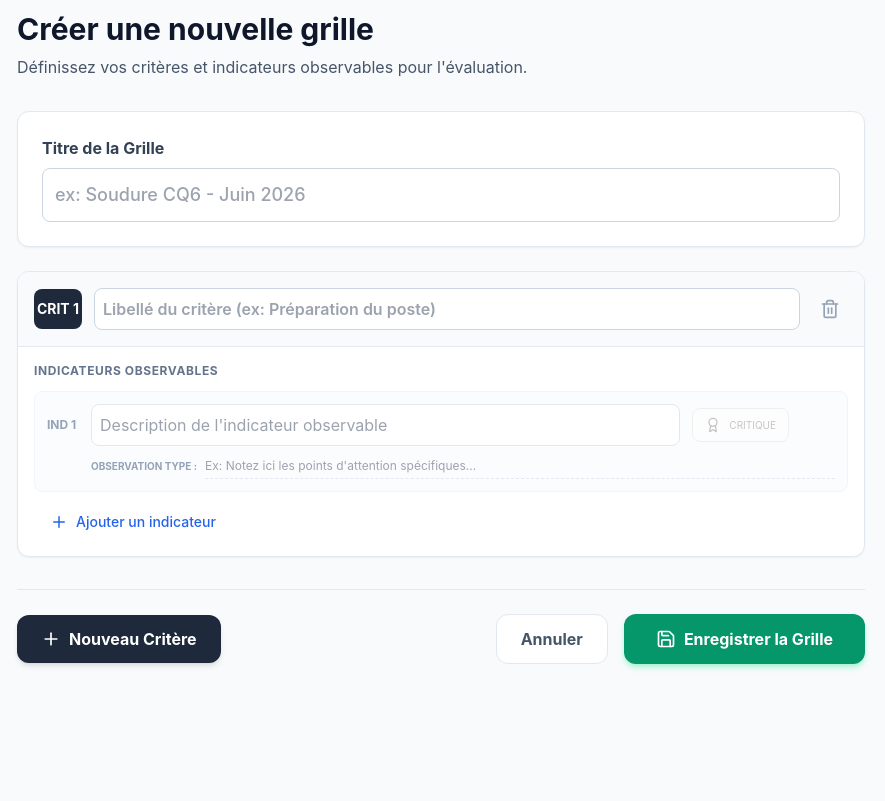
Test: GridEditor › should add an indicator to a competency
Click the button "Ajouter un indicateur". click: (133, 522)
box: [34,504,232,540]
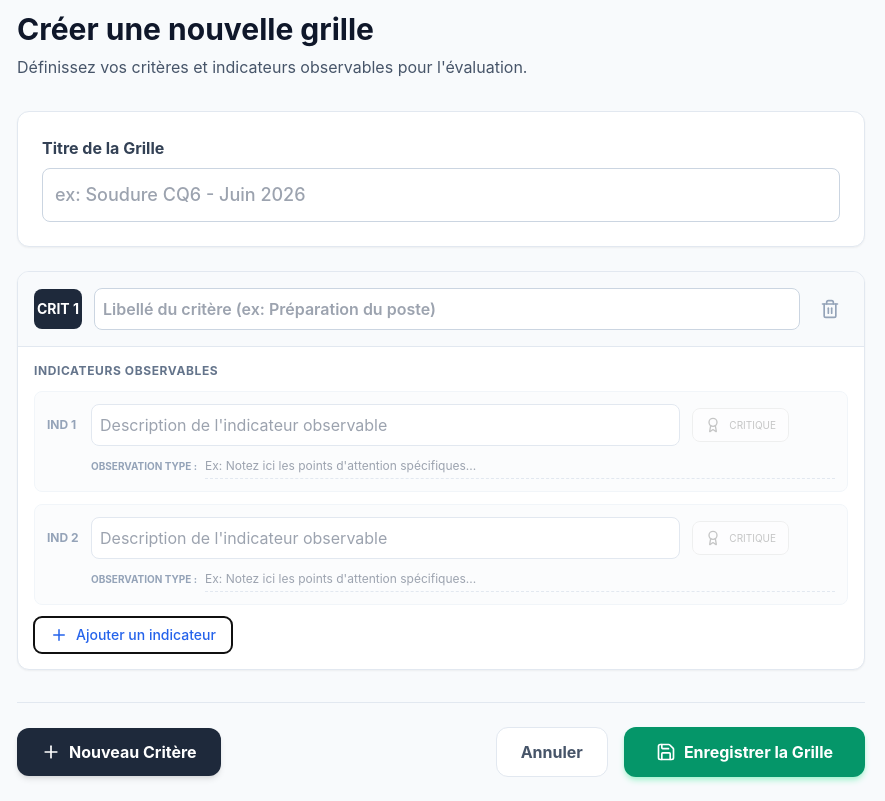
Check: the number of fields with placeholder "Description de l'indicateur observable" is 2, box [91,404,680,446]; [91,517,680,559]
